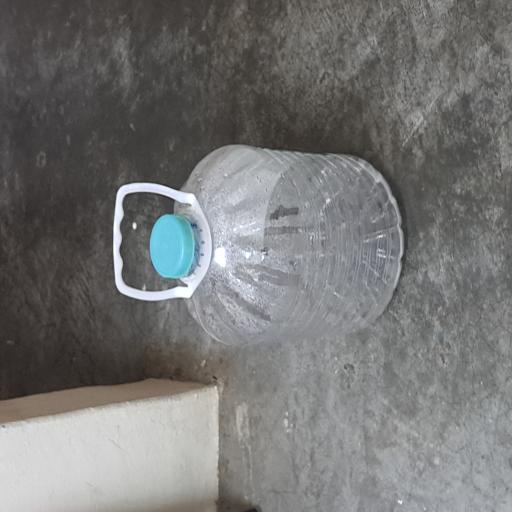plastic bottle: (122, 233, 276, 512)
plastic bottle cap: (174, 199, 224, 258)
